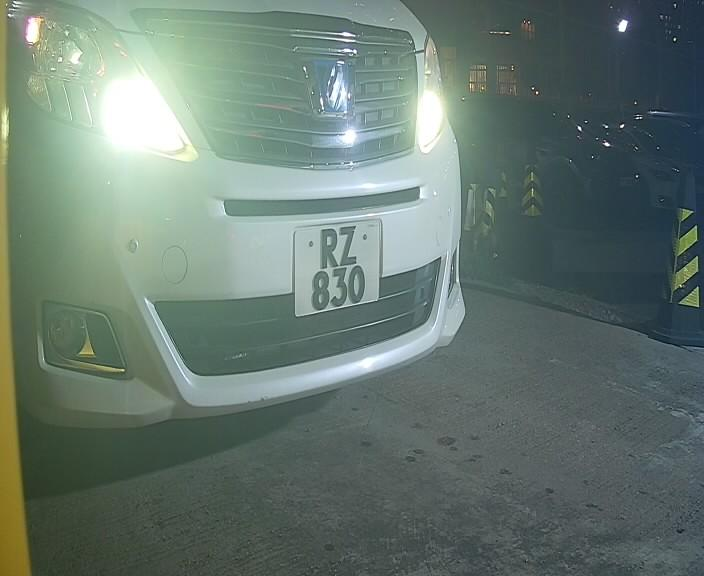License Plate: (283, 204, 400, 325)
